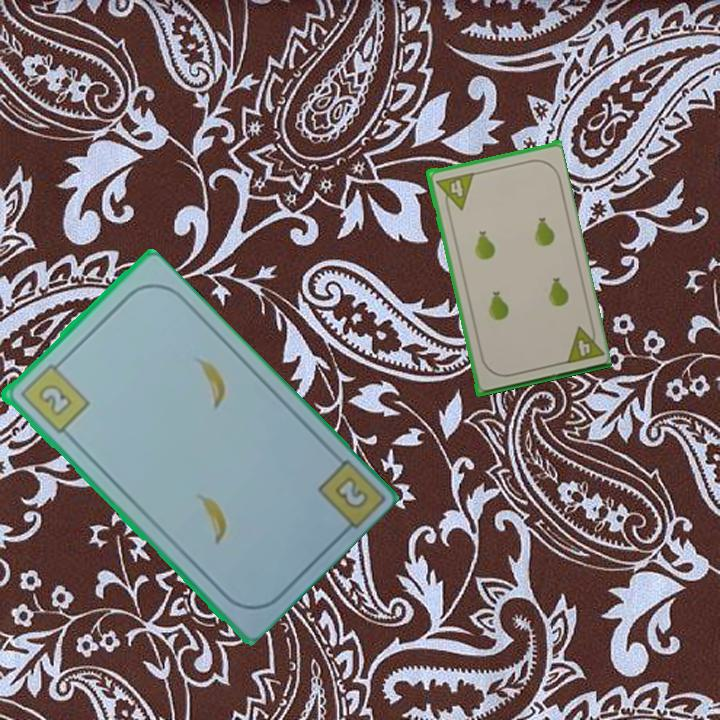2b: (15, 355, 92, 436), (330, 472, 371, 512)
4p: (560, 320, 605, 367), (432, 169, 476, 214)
